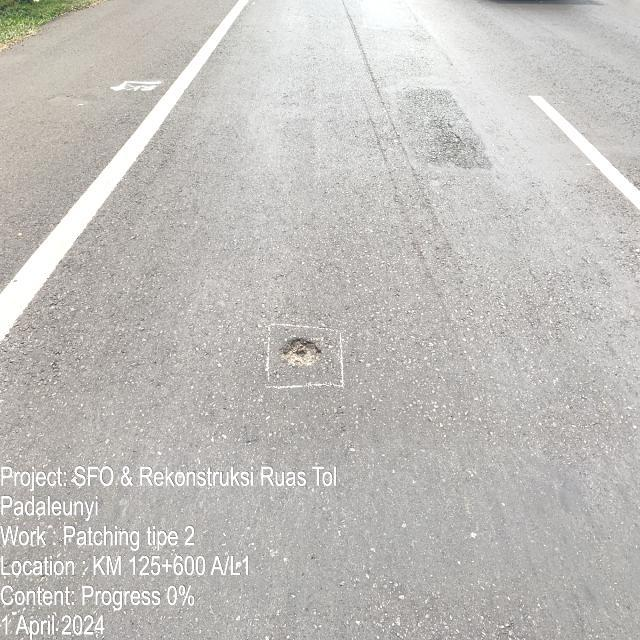Buraco: (274, 335, 326, 370)
